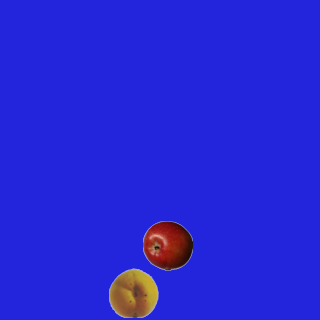Apple Braeburn: (142, 220, 192, 270)
Peach 2: (108, 267, 158, 317)
